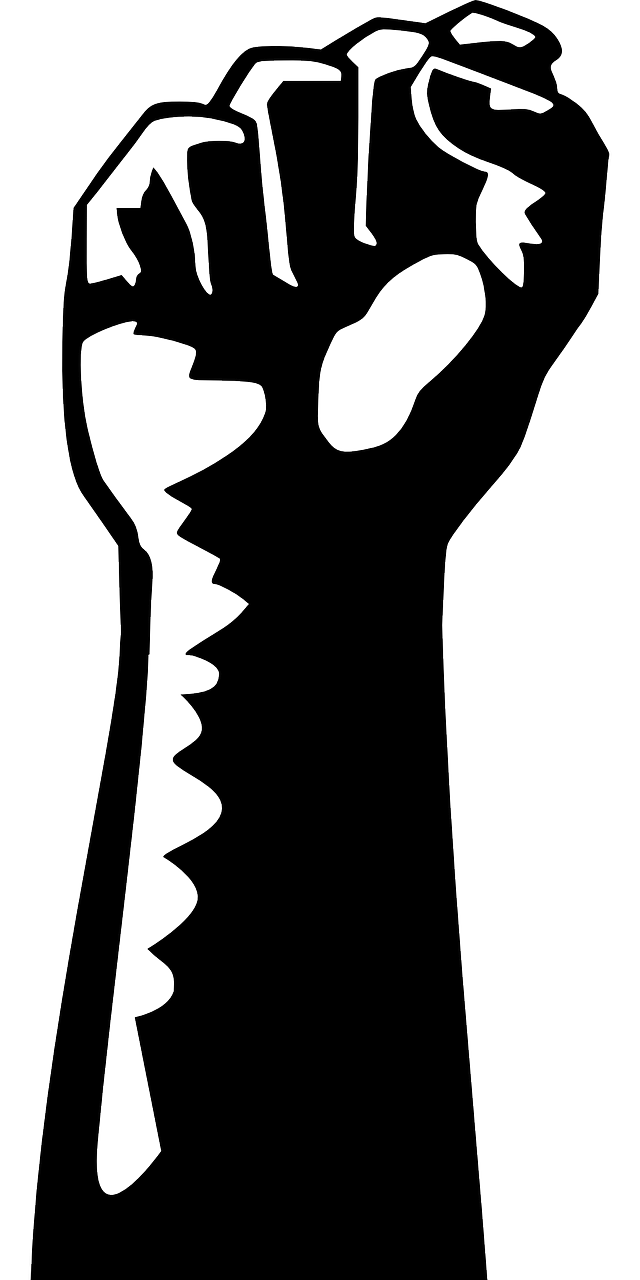fist: (66, 15, 598, 501)
